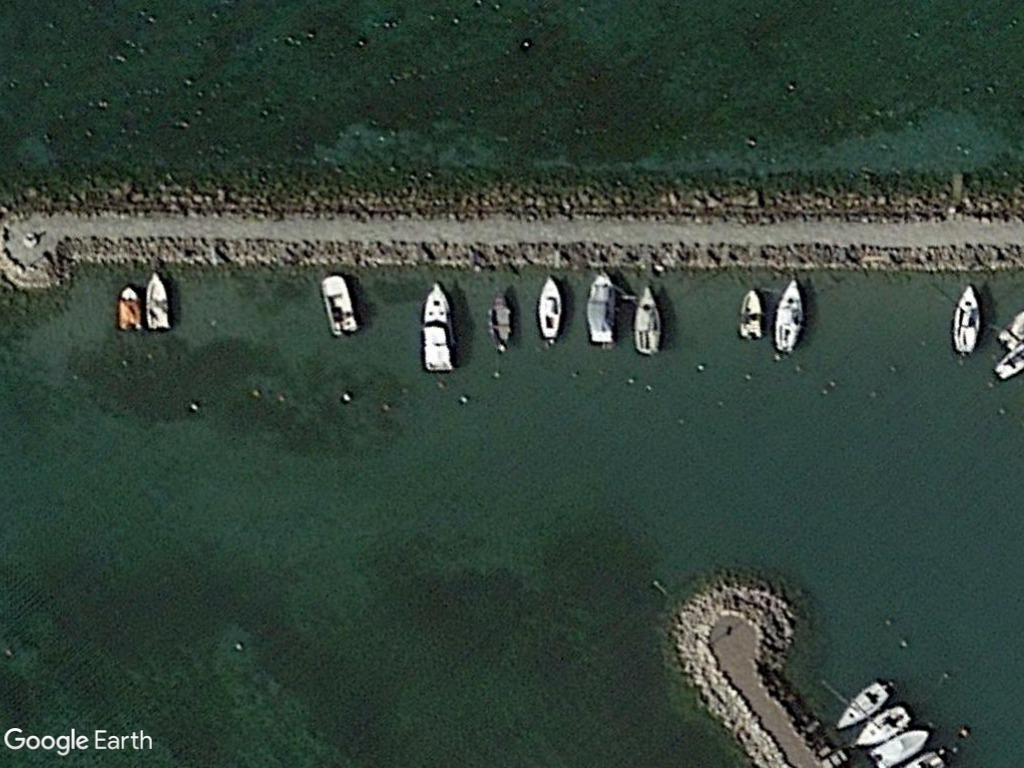boat: (414, 279, 463, 374), (831, 677, 894, 732), (582, 267, 621, 351), (866, 720, 931, 768), (528, 272, 568, 345), (771, 275, 807, 356), (850, 701, 908, 751), (629, 282, 665, 358), (948, 283, 984, 356), (143, 265, 174, 332), (737, 285, 767, 344), (114, 283, 144, 332)
